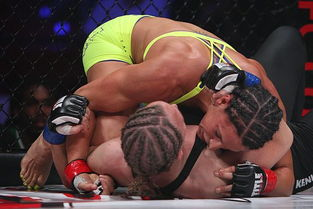fall: (13, 9, 302, 196)
